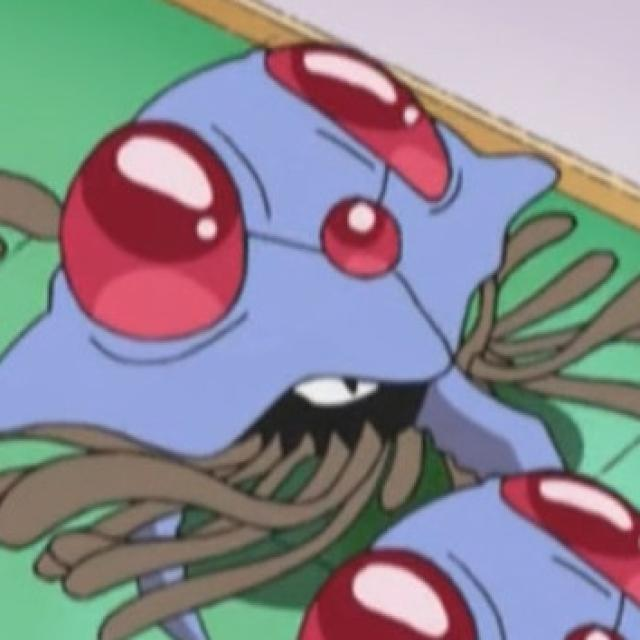Tentacruel: (45, 46, 554, 483)
